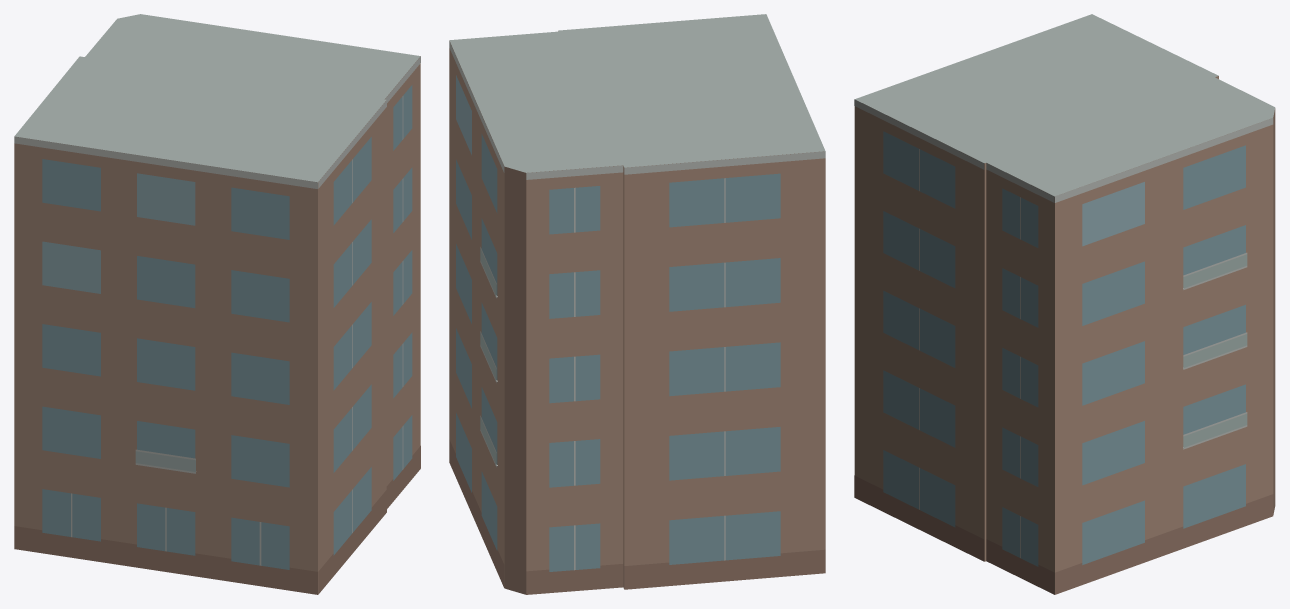
The model's file is survey-upis-32626350.glb.
The picture shows the model from 3 angles, left to right: view 1: azimuth 30°, elevation 25°; view 2: azimuth 150°, elevation 25°; view 3: azimuth 270°, elevation 25°; orthographic projection. The views are drawn at different scales.
Visible parts, largest first — view 1: survey-upis-32626350.tmp; view 2: survey-upis-32626350.tmp; view 3: survey-upis-32626350.tmp.
Part boxes in pixels (x1=…): survey-upis-32626350.tmp: x1=14, y1=14, x2=420, y2=594; survey-upis-32626350.tmp: x1=449, y1=14, x2=825, y2=594; survey-upis-32626350.tmp: x1=854, y1=14, x2=1275, y2=594.
Bounding box in the file's own units: 14.25 × 14.5 × 13.89.
